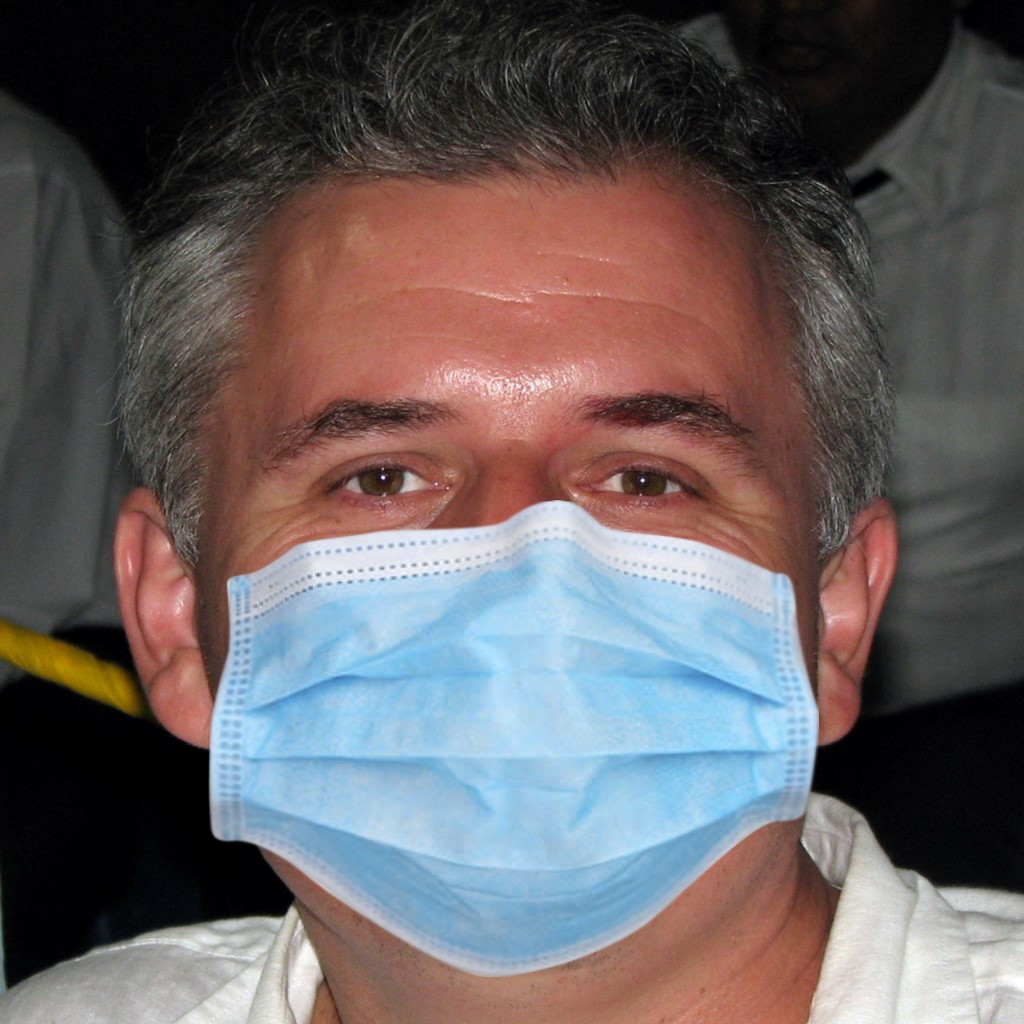con_mascara: (165, 90, 907, 1001)
